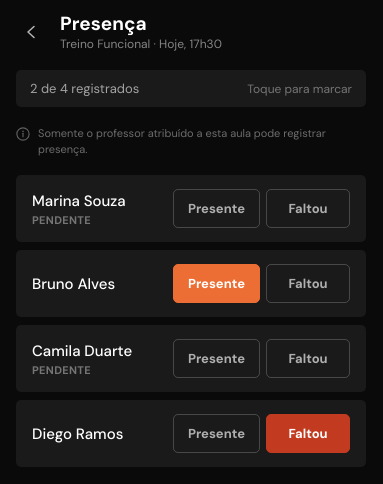
it: Presença (professor) › marca presente com um toque: a linha muda na hora, sem esperar o servidor
Expected: the text "2 de 4 registrados" is shown, top-left (30, 80), bottom-right (139, 97)
What coordinates should you click on to do the following:
click the button "Presente" next to "Marina Souza"
I would click on:
 (216, 208)
Its box is top-left (173, 189), bottom-right (260, 228).
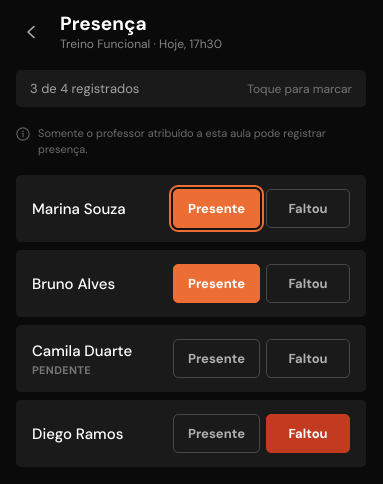
Expected: the text "3 de 4 registrados" is shown, top-left (30, 80), bottom-right (139, 97)
